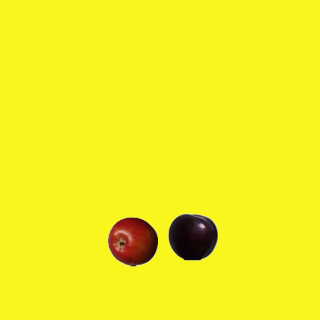Apple Braeburn: (107, 216, 157, 266)
Cherry Wax Black: (167, 211, 217, 261)
